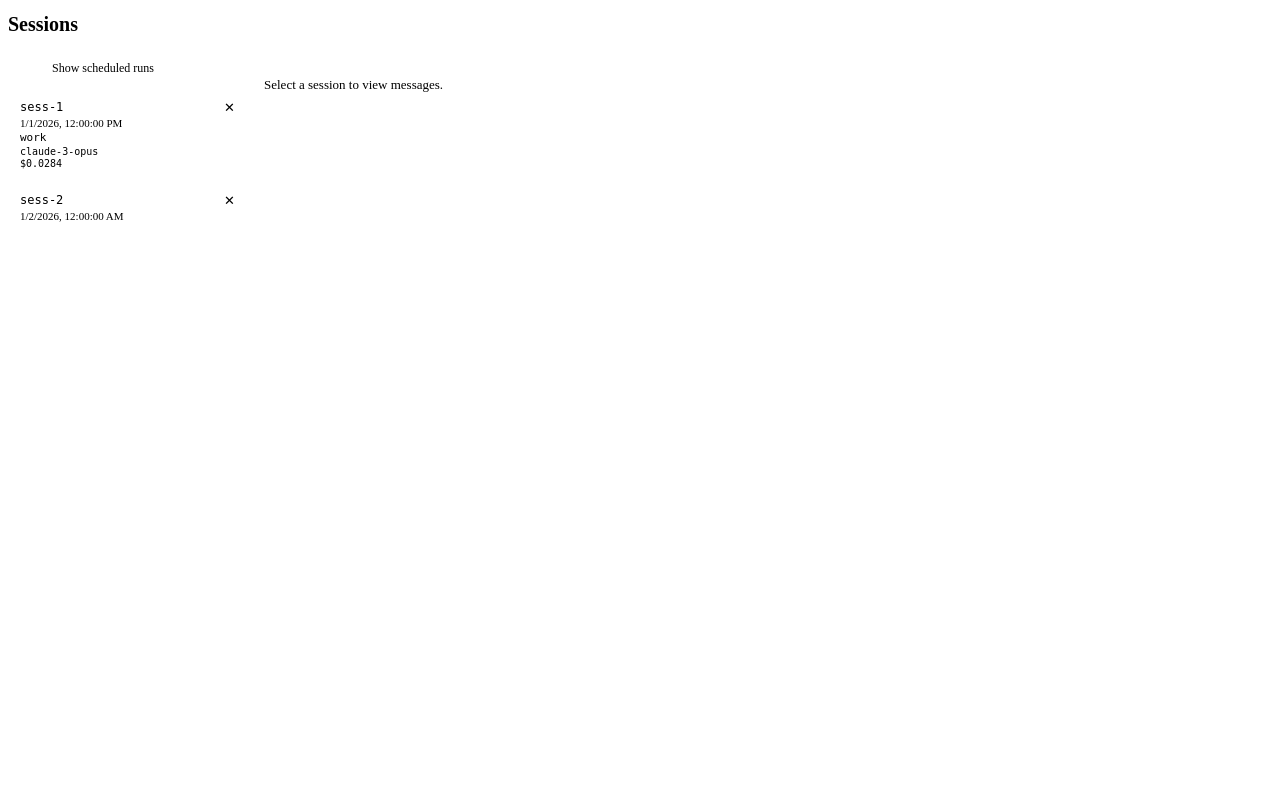
it: Sessions page › delete button shows confirmation modal
Check: the text "sess-1" is shown, box [20,100,63,114]
Click the 1st button with class "del". click: (230, 108)
box: [219,98,240,117]
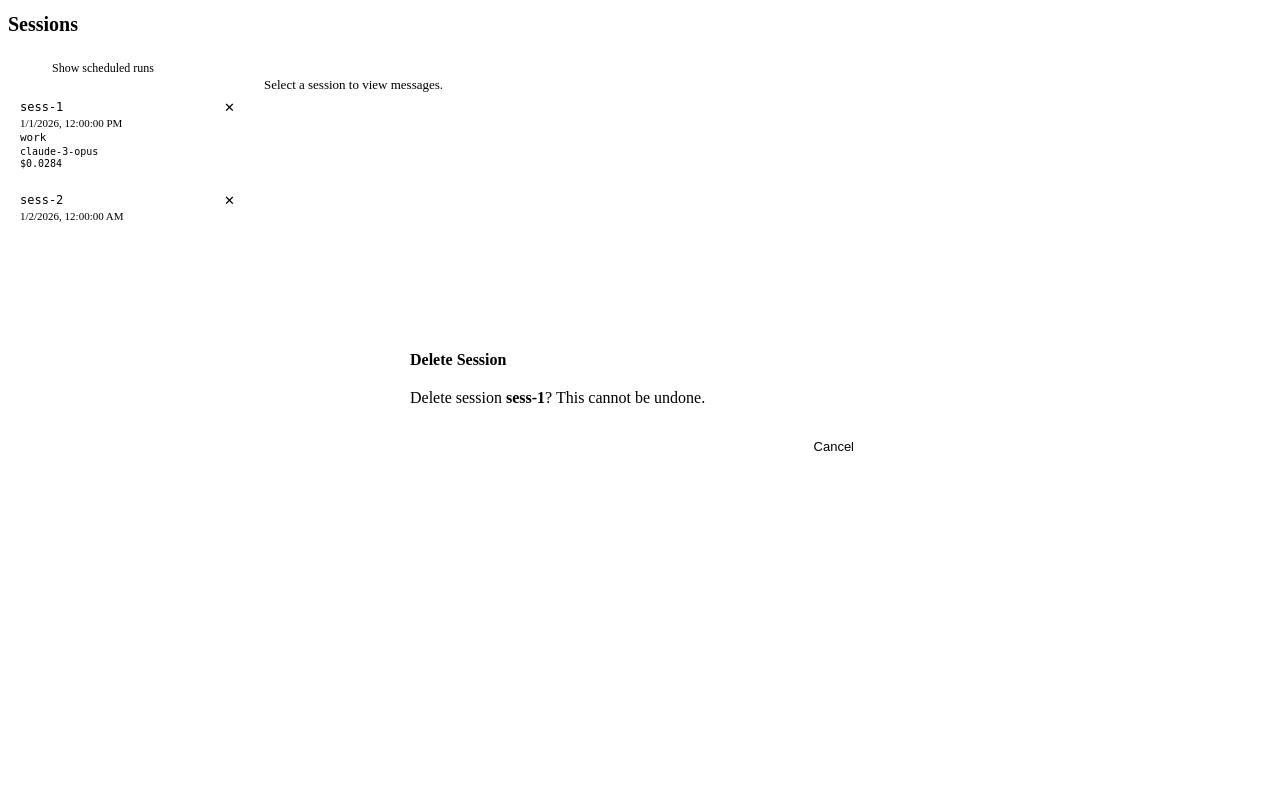
Check: the heading "Delete Session" is shown, box [410,351,506,368]
Check: the button "Cancel" is shown, box [798,431,870,462]
